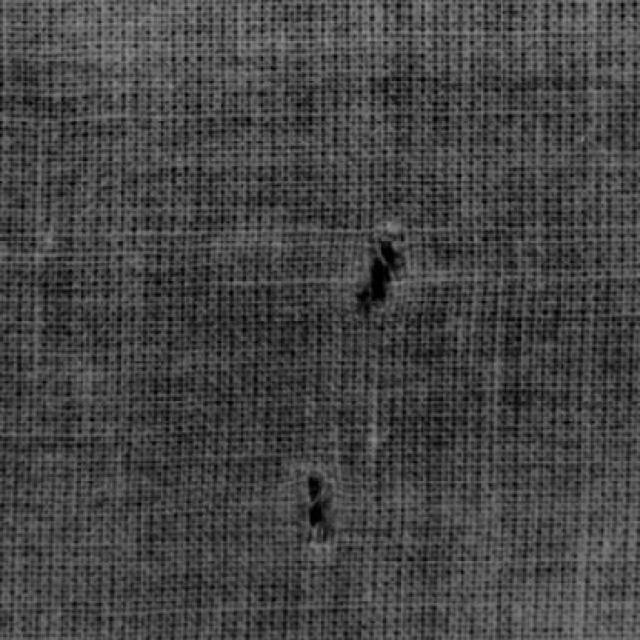seam: (353, 222, 411, 322), (302, 472, 340, 544)
